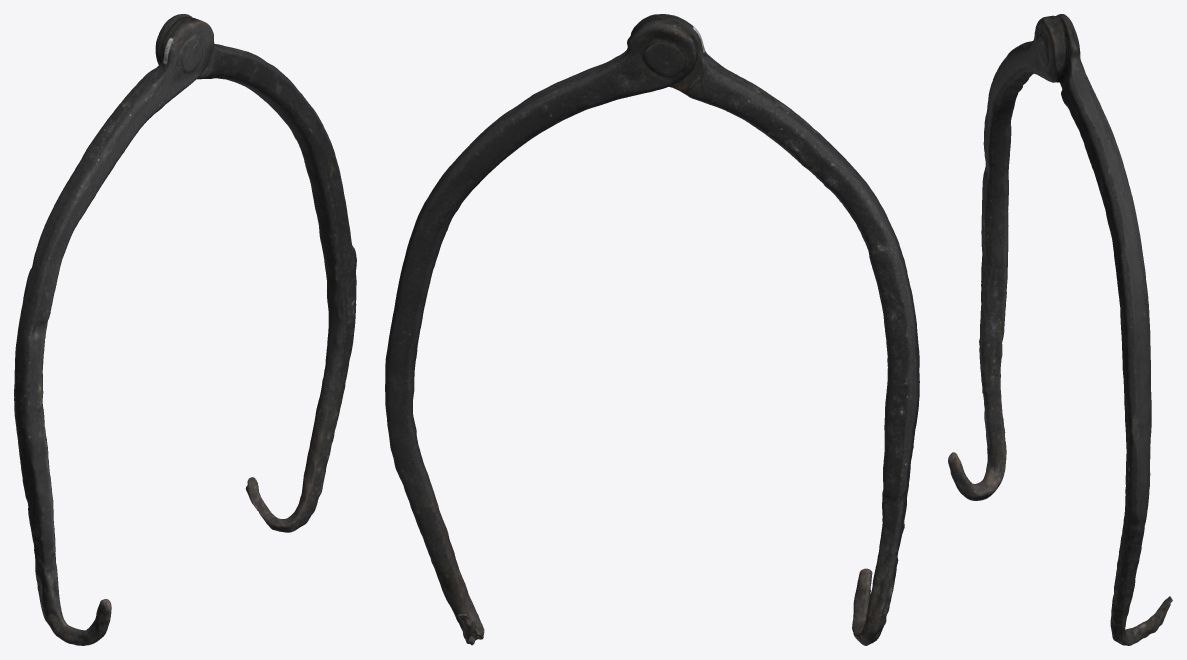
The model's file is preview.glb.
3 renders of one model, left to right at view 1: azimuth 30°, elevation 25°; view 2: azimuth 150°, elevation 25°; view 3: azimuth 270°, elevation 25°, orthographic. The views are drawn at different scales.
Bounding box in the file's own units: 0.2234 × 0.298 × 0.1083.
1 material, 1 textured.
